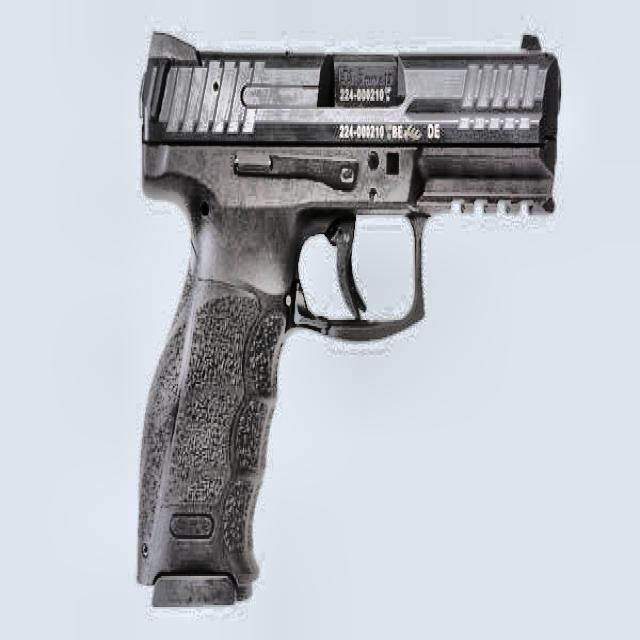HKVP9: (134, 23, 564, 607)
